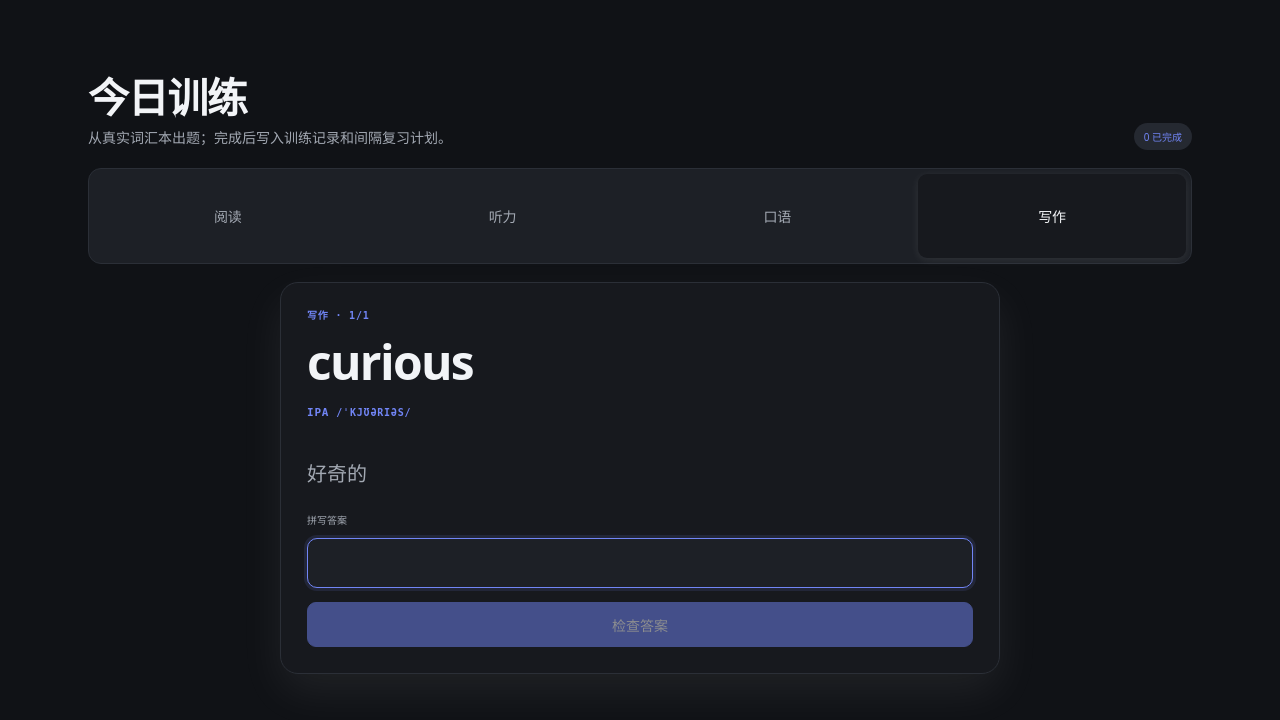
it: language practice › writing practice normalizes whitespace and casing before grading
This screenshot has width=1280, height=720.
Type "  CURIOUS  " into the field labelled "拼写答案" at {"x": 640, "y": 563}, box [307,538,973,588]
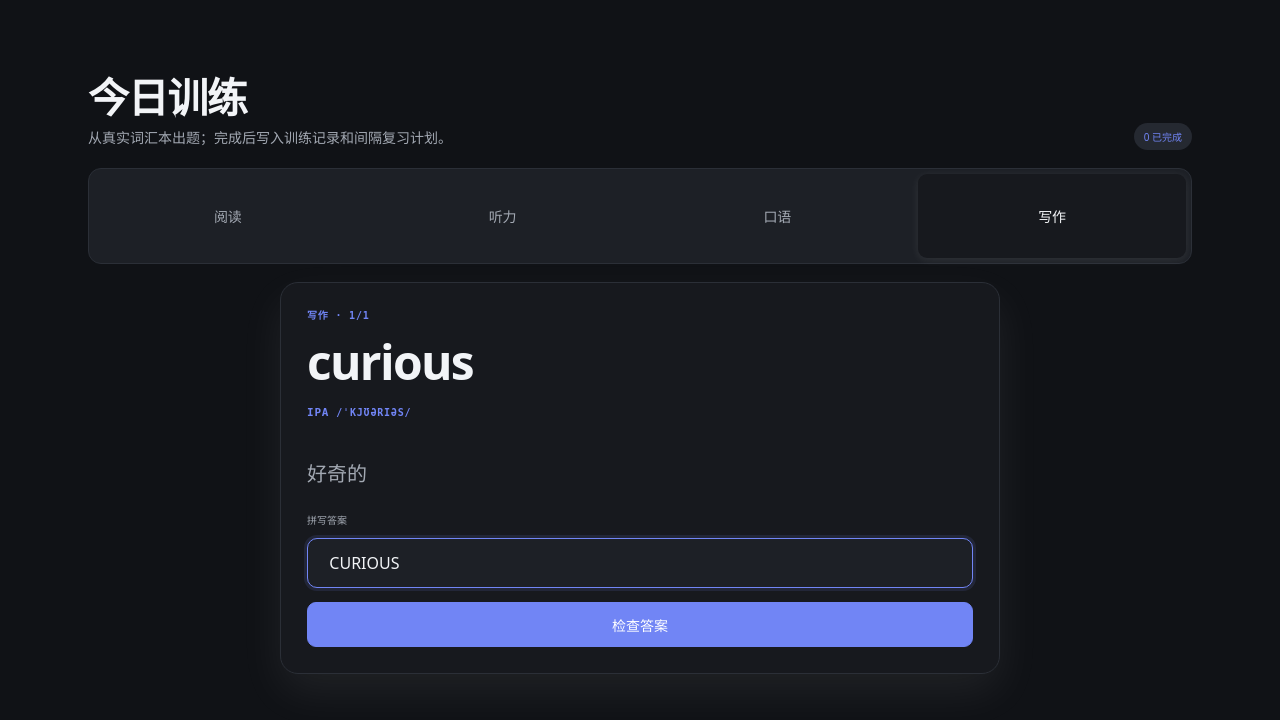
Click the button "检查答案" at {"x": 640, "y": 625}, box [307,602,973,647]
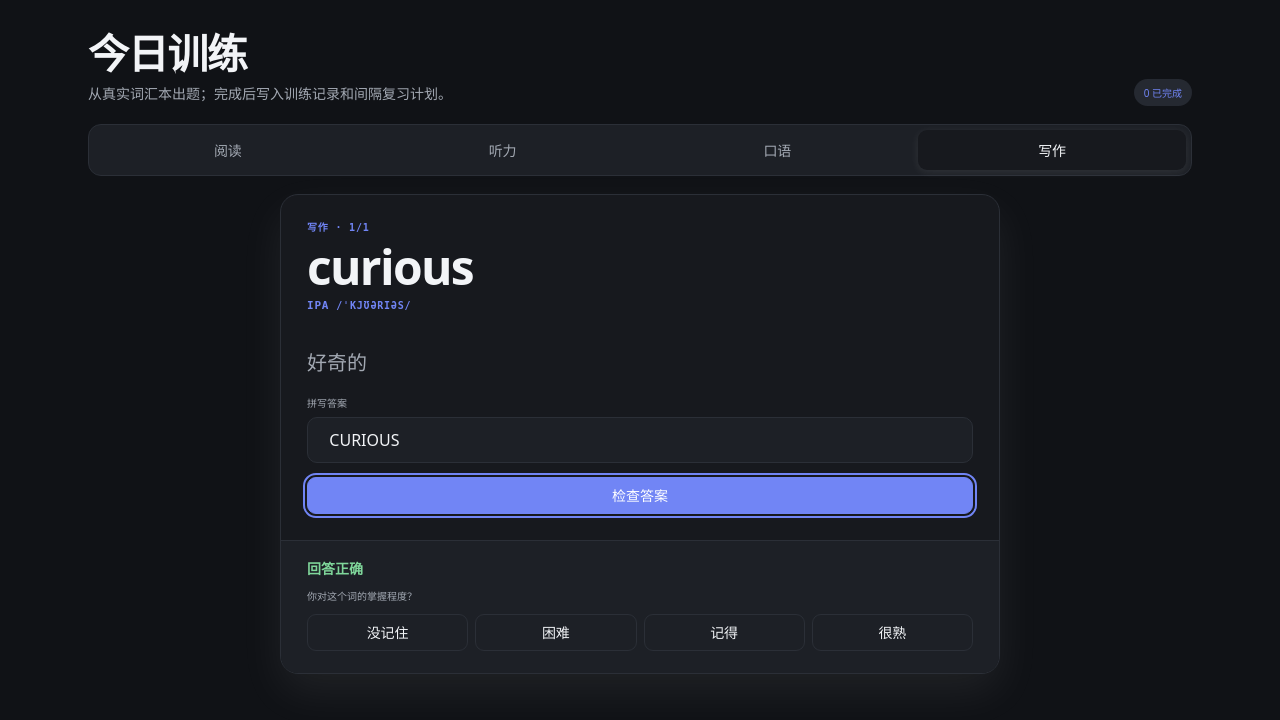
Check: the text "回答正确" is shown, box [307,559,363,578]
